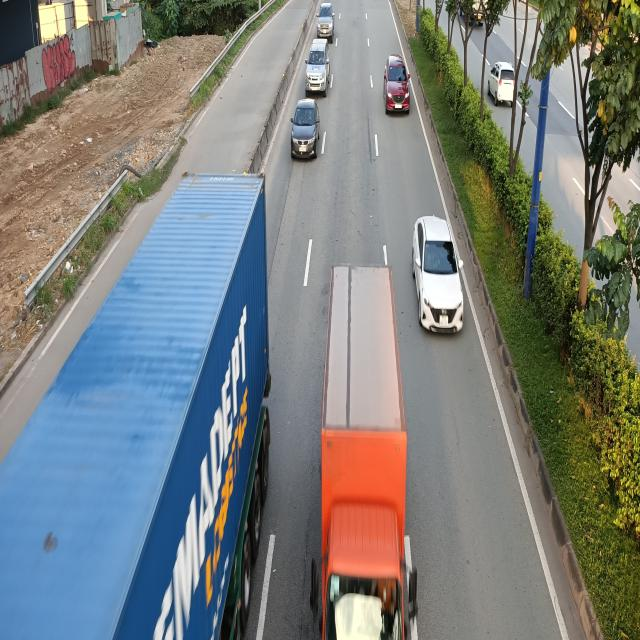car: (413, 216, 465, 336), (292, 100, 322, 162), (382, 55, 410, 114), (305, 40, 331, 96), (317, 1, 335, 42)
container: (0, 173, 275, 638)
truck: (309, 262, 422, 638)
